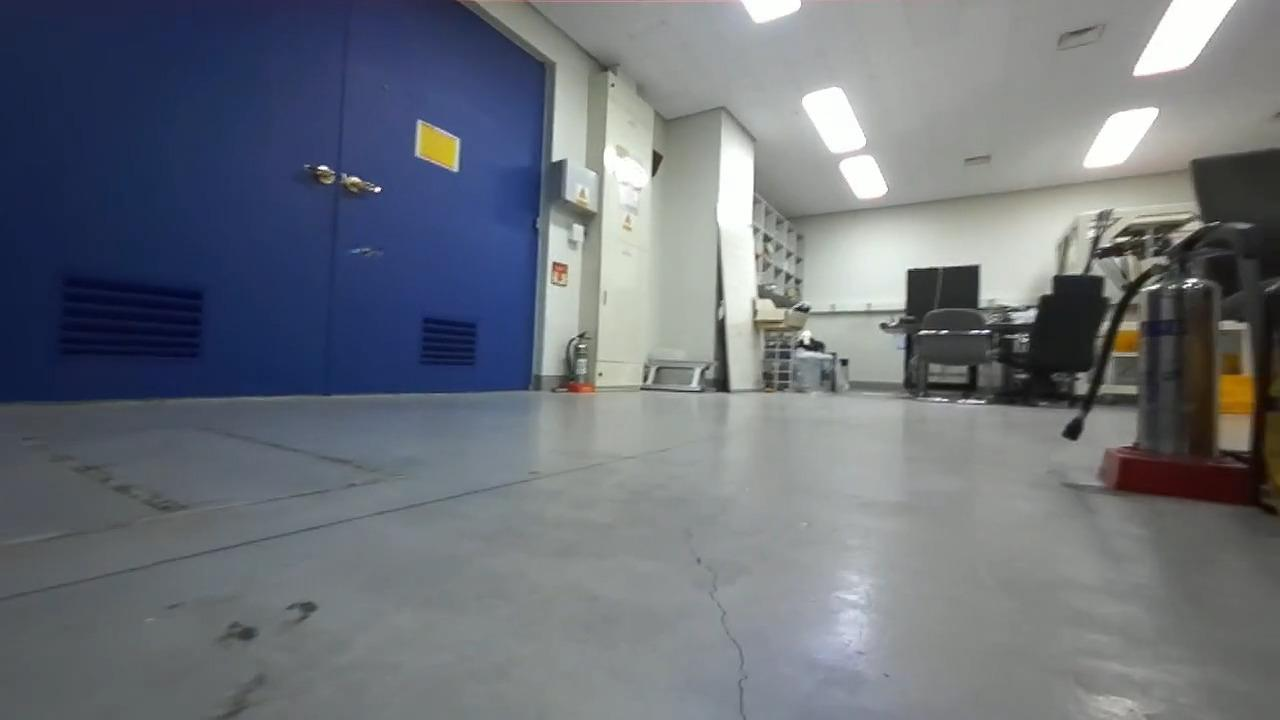crazyflie: (339, 242, 388, 263)
